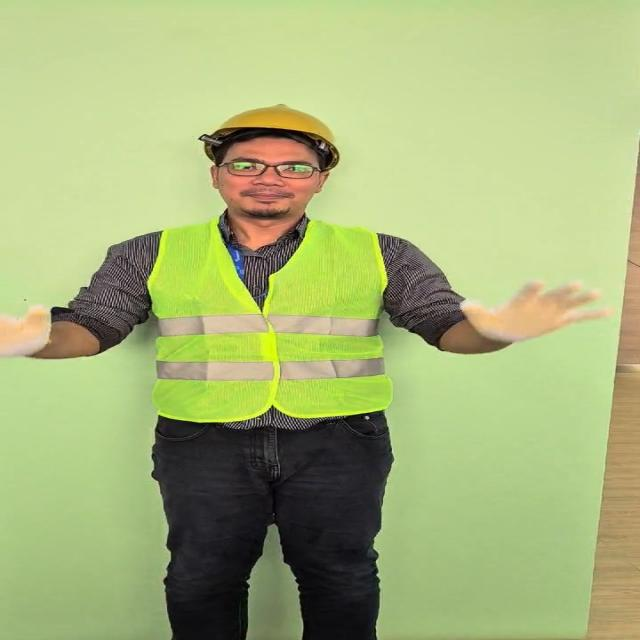gloves: (461, 278, 610, 345), (1, 303, 55, 359)
goggles: (214, 162, 324, 178)
helmet: (188, 102, 353, 154)
safety_vest: (149, 221, 394, 420)
